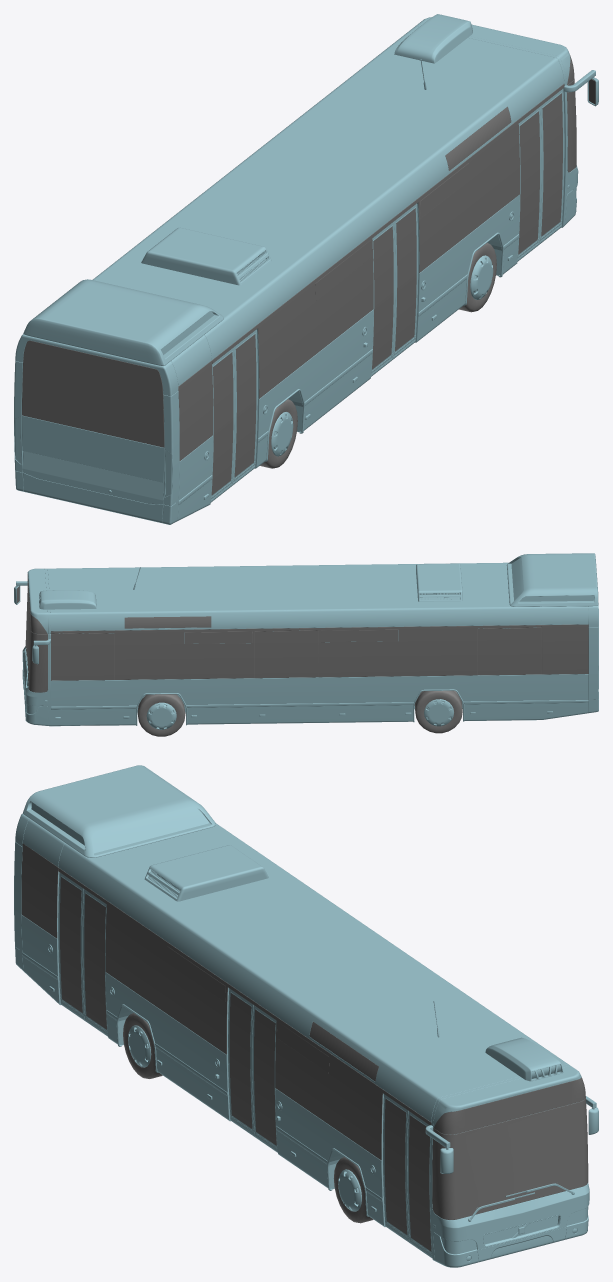
The model's file is bus.fbx.
3 views of the same model, one above another, from view 1: azimuth 30°, elevation 25°; view 2: azimuth 150°, elevation 25°; view 3: azimuth 270°, elevation 25° (orthographic). The views are drawn at different scales.
Visible parts, largest first — view 1: Archmodels55_13_carpaint, Archmodels55_13_glass, Archmodels55_13_details, Archmodels55_13_black, Archmodels55_13_front_details, Archmodels55_13_tire, Archmodels55_13_chrome2; view 2: Archmodels55_13_carpaint, Archmodels55_13_glass, Archmodels55_13_details, Archmodels55_13_tire, Archmodels55_13_front_details, Archmodels55_13_black; view 3: Archmodels55_13_carpaint, Archmodels55_13_glass, Archmodels55_13_details, Archmodels55_13_front_details, Archmodels55_13_black, Archmodels55_13_tire, Archmodels55_13_chrome2, Archmodels55_13_lights_glass.
Part boxes in pixels (left/top/right/bottom): Archmodels55_13_carpaint: left=14, top=14, right=578, bottom=524; Archmodels55_13_glass: left=22, top=55, right=576, bottom=495; Archmodels55_13_details: left=108, top=89, right=569, bottom=504; Archmodels55_13_black: left=14, top=88, right=568, bottom=522; Archmodels55_13_front_details: left=417, top=17, right=598, bottom=106; Archmodels55_13_tire: left=260, top=242, right=496, bottom=468; Archmodels55_13_chrome2: left=210, top=222, right=561, bottom=502; Archmodels55_13_carpaint: left=22, top=553, right=598, bottom=729; Archmodels55_13_glass: left=25, top=574, right=588, bottom=692; Archmodels55_13_details: left=45, top=557, right=594, bottom=725; Archmodels55_13_tire: left=137, top=690, right=462, bottom=736; Archmodels55_13_front_details: left=14, top=567, right=140, bottom=688; Archmodels55_13_black: left=36, top=571, right=588, bottom=725; Archmodels55_13_carpaint: left=14, top=765, right=589, bottom=1267; Archmodels55_13_glass: left=21, top=843, right=588, bottom=1251; Archmodels55_13_details: left=22, top=802, right=435, bottom=1253; Archmodels55_13_front_details: left=425, top=1001, right=598, bottom=1221; Archmodels55_13_black: left=57, top=871, right=583, bottom=1261; Archmodels55_13_tire: left=123, top=1013, right=373, bottom=1223; Archmodels55_13_chrome2: left=60, top=1000, right=560, bottom=1258; Archmodels55_13_lights_glass: left=441, top=1206, right=588, bottom=1254.
Bounding box in the file's own units: 1207 × 350 × 873.
